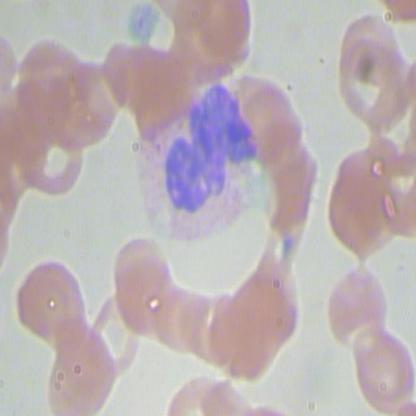RBC: (12, 25, 93, 119), (45, 55, 126, 148), (335, 38, 415, 132), (12, 107, 92, 201), (11, 258, 87, 348), (77, 286, 150, 379), (42, 322, 114, 415), (322, 260, 391, 348), (347, 322, 415, 410), (332, 6, 400, 94), (124, 252, 183, 347), (138, 264, 197, 359), (110, 230, 168, 324), (161, 273, 219, 367), (176, 1, 255, 62), (165, 370, 221, 415), (194, 376, 248, 415)
WBC: (125, 80, 252, 247)
